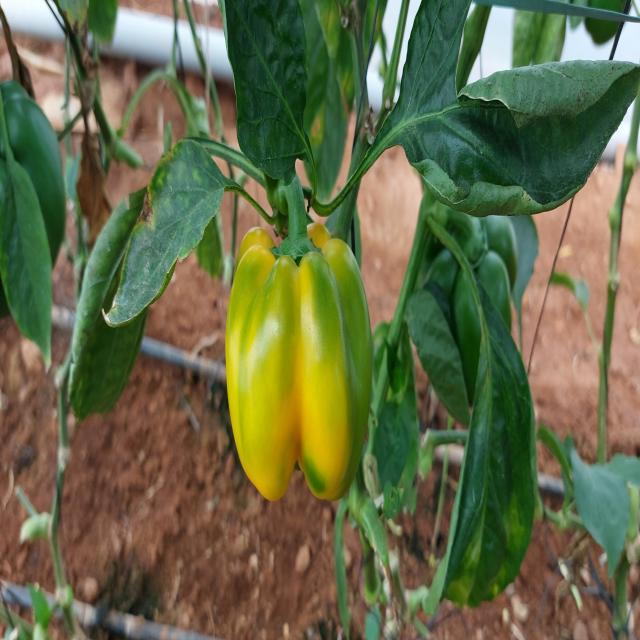GreenishYellow--Can-be-Harvested: (214, 193, 384, 513)
